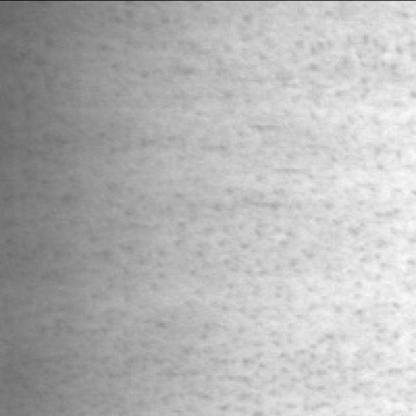pitted_surface: (0, 8, 410, 416)
